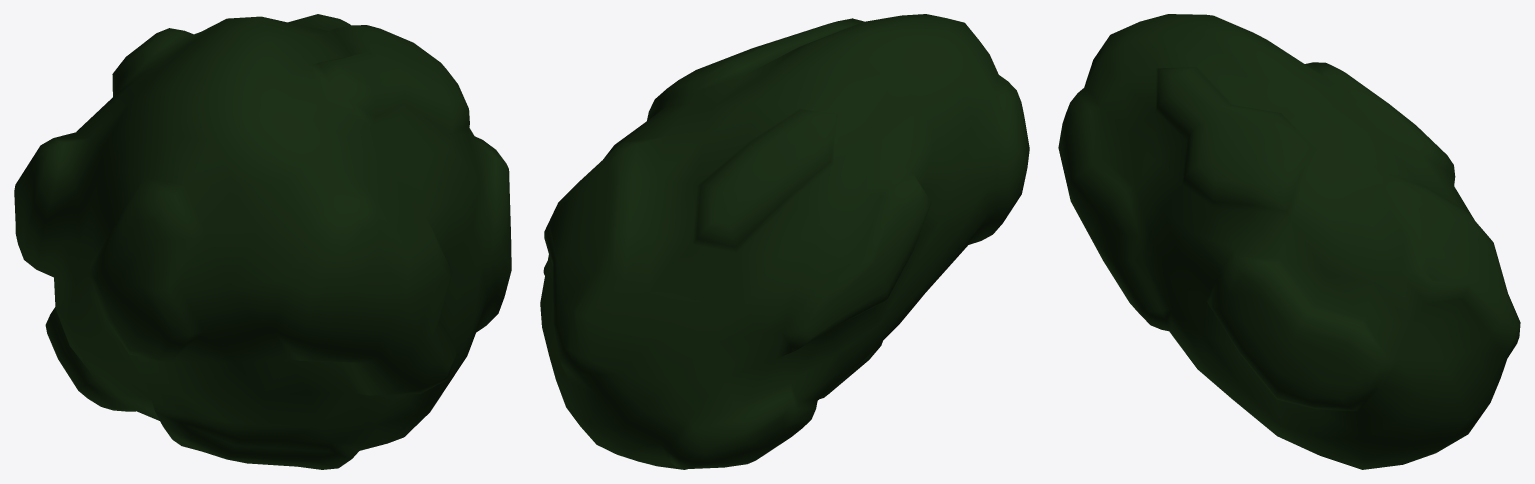
File: small moss debris.fbx
3 renders of one model, left to right at view 1: azimuth 30°, elevation 25°; view 2: azimuth 150°, elevation 25°; view 3: azimuth 270°, elevation 25°, orthographic. The views are drawn at different scales.
Visible parts, largest first — view 1: GeoSphere006; view 2: GeoSphere006; view 3: GeoSphere006.
Part boxes in pixels (x1,y1,x2,y2): GeoSphere006: (14,14,511,469); GeoSphere006: (540,14,1029,469); GeoSphere006: (1058,14,1520,469).
Bounding box in the file's own units: 10.58 × 10.66 × 11.97.
